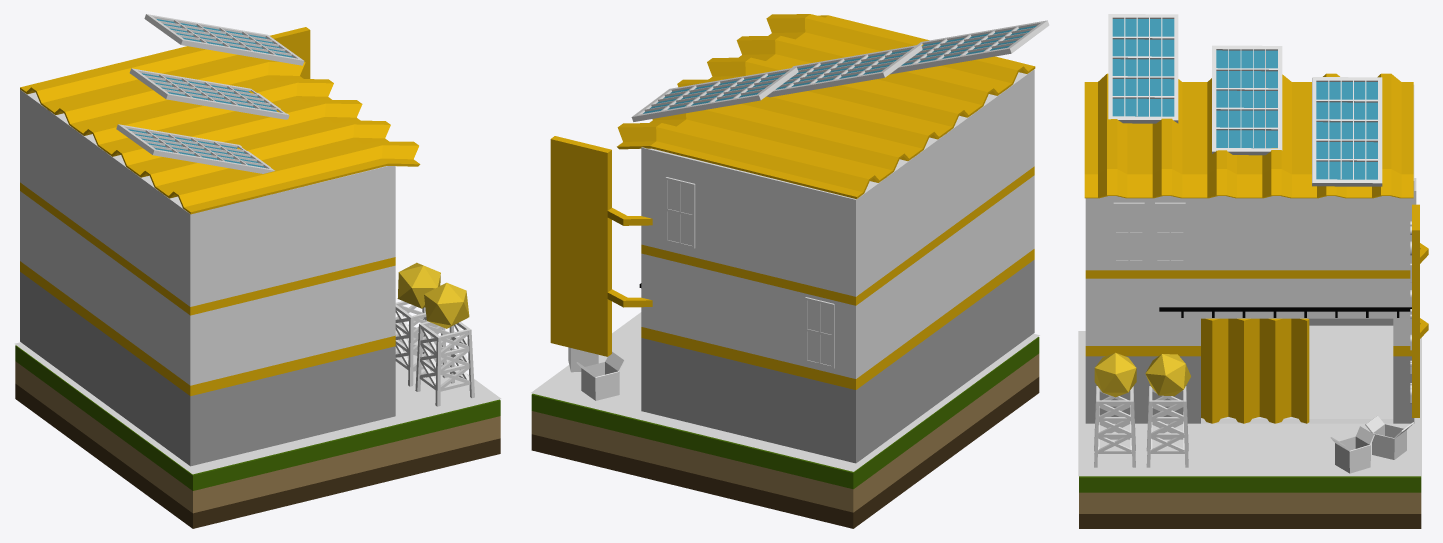
Rendered from SolarPlantPrefab.fbx.
The picture shows the model from 3 angles, left to right: view 1: azimuth 30°, elevation 25°; view 2: azimuth 150°, elevation 25°; view 3: azimuth 270°, elevation 25°; orthographic projection. The views are drawn at different scales.
Visible parts, largest first — view 1: solar farm, Cube.178, house ground.007, Plane.107, Cube.180, Cube.181, Cube.182, Cube.171, Icosphere.063, Icosphere.064, Cube.172, Cube.176 (+3 smaller); view 2: solar farm, Cube.178, house ground.007, Cube.183, Plane.107, Cube.180, Cube.182, Cube.181, window asset.043, window asset.044, Cube.184; view 3: solar farm, Cube.178, house ground.007, Plane.107, Plane.115, Cube.180, Cube.181, Cube.182, Cube.183, window asset.041, window asset.042, Cube.174 (+8 smaller).
Boxes of the visible parts, box(x1,y1,x2,y2) form: solar farm: box(20, 89, 395, 466); Cube.178: box(20, 46, 420, 214); house ground.007: box(15, 345, 500, 528); Plane.107: box(14, 330, 501, 474); Cube.180: box(144, 14, 304, 65); Cube.181: box(129, 68, 289, 119); Cube.182: box(116, 124, 274, 173); Cube.171: box(435, 329, 474, 406); Icosphere.063: box(424, 282, 469, 328); Icosphere.064: box(397, 262, 440, 308); Cube.172: box(419, 323, 440, 406); Cube.176: box(395, 304, 413, 386); solar farm: box(641, 69, 1034, 463); Cube.178: box(617, 14, 1035, 199); house ground.007: box(531, 337, 1039, 528); Cube.183: box(550, 136, 652, 356); Plane.107: box(531, 312, 1039, 471); Cube.180: box(631, 67, 798, 121); Cube.182: box(890, 20, 1049, 74); Cube.181: box(766, 44, 922, 97); window asset.043: box(665, 177, 695, 248); window asset.044: box(805, 297, 834, 368); Cube.184: box(576, 351, 624, 400); solar farm: box(1085, 85, 1414, 423); Cube.178: box(1084, 73, 1413, 198); house ground.007: box(1079, 476, 1421, 528); Plane.107: box(1078, 331, 1421, 476); Plane.115: box(1201, 318, 1309, 423); Cube.180: box(1312, 77, 1382, 186); Cube.181: box(1212, 45, 1282, 155); Cube.182: box(1108, 14, 1178, 123); Cube.183: box(1412, 204, 1428, 417); window asset.041: box(1113, 202, 1144, 262); window asset.042: box(1155, 202, 1185, 262); Cube.174: box(1146, 400, 1188, 467).
Size of the model in its own units: 230 by 241 by 213.
